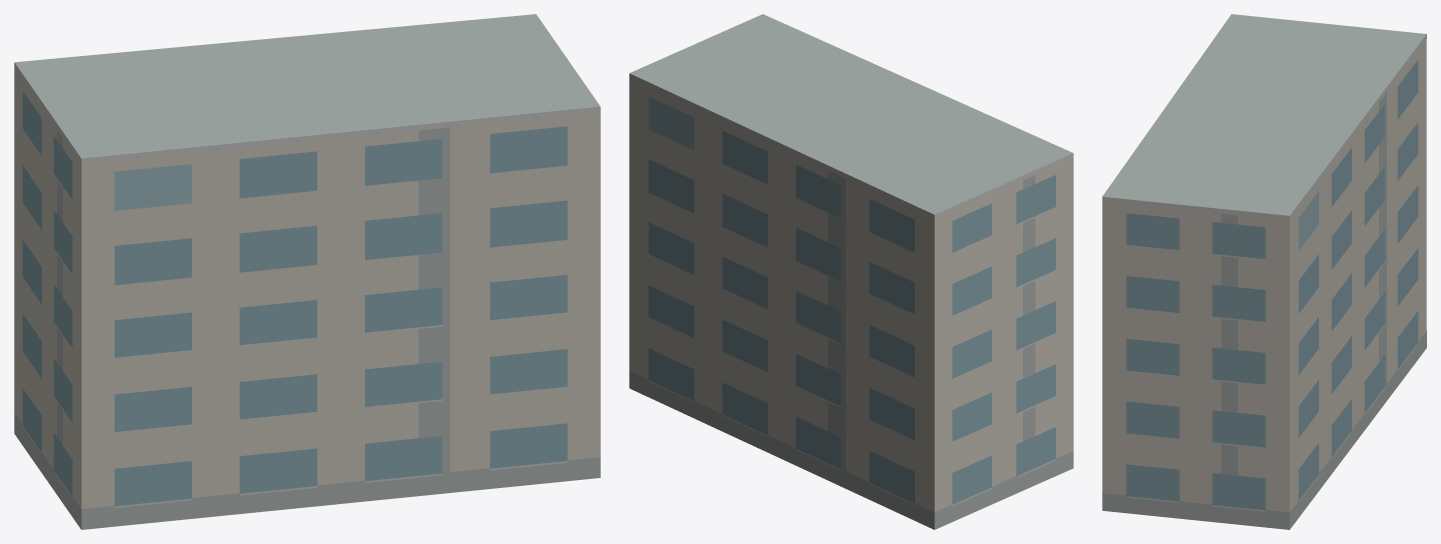
Rendered from residential-fdfd430b-187e-4738-9f31-3b41cacadd9b.glb.
3 renders of one model, left to right at view 1: azimuth 30°, elevation 25°; view 2: azimuth 150°, elevation 25°; view 3: azimuth 270°, elevation 25°, orthographic. The views are drawn at different scales.
Parts seen in each view (by area): view 1: residential-fdfd430b-187e-4738-9f31-3b41cacadd9b.tmp; view 2: residential-fdfd430b-187e-4738-9f31-3b41cacadd9b.tmp; view 3: residential-fdfd430b-187e-4738-9f31-3b41cacadd9b.tmp.
Part boxes in pixels (x1,y1,x2,y2): residential-fdfd430b-187e-4738-9f31-3b41cacadd9b.tmp: [14, 14, 600, 529]; residential-fdfd430b-187e-4738-9f31-3b41cacadd9b.tmp: [629, 14, 1073, 529]; residential-fdfd430b-187e-4738-9f31-3b41cacadd9b.tmp: [1102, 14, 1426, 529].
Size of the model in its own units: 21.03 by 15.25 by 14.29.
